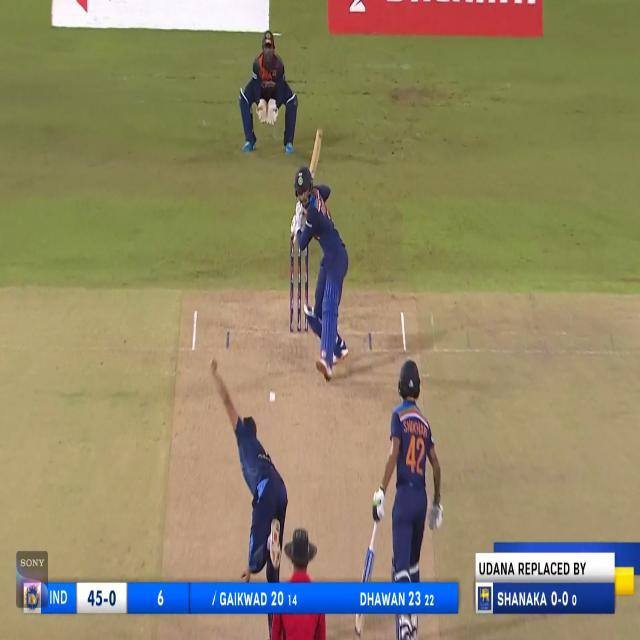ball: (268, 389, 276, 402)
